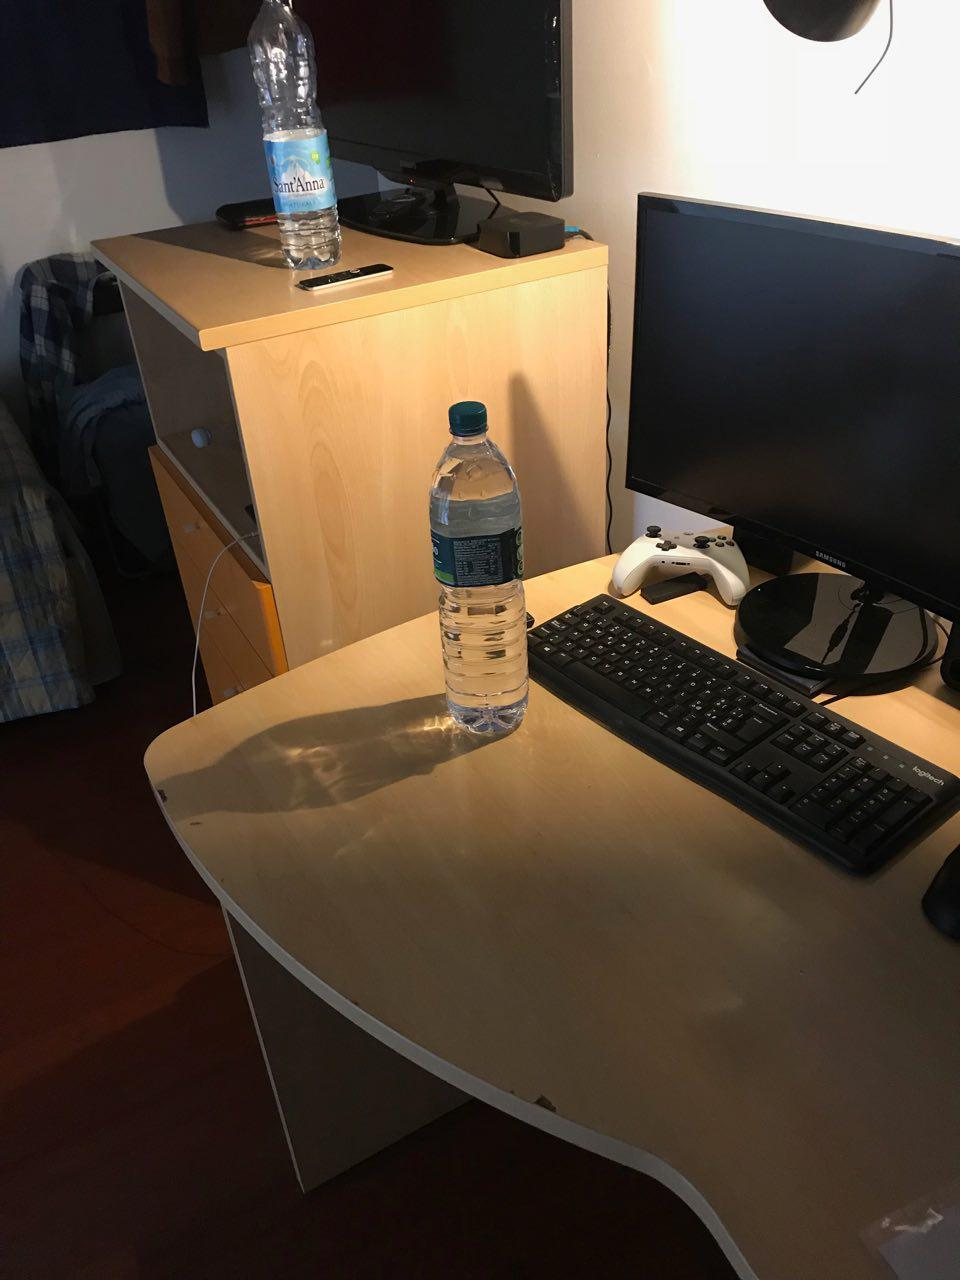san_bernardo: (427, 400, 528, 735)
